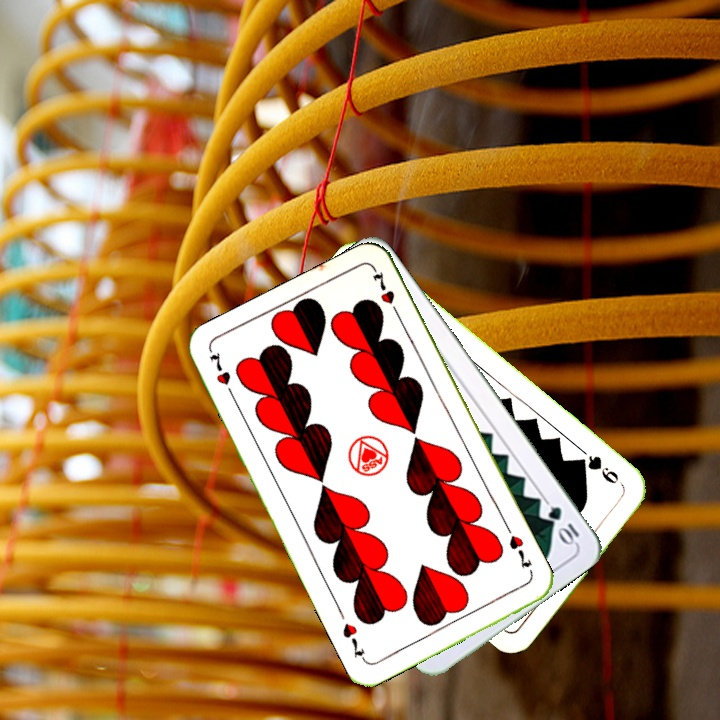G10: (544, 502, 582, 548)
G9: (574, 451, 628, 491)
H7: (205, 348, 238, 403), (505, 531, 534, 571)
